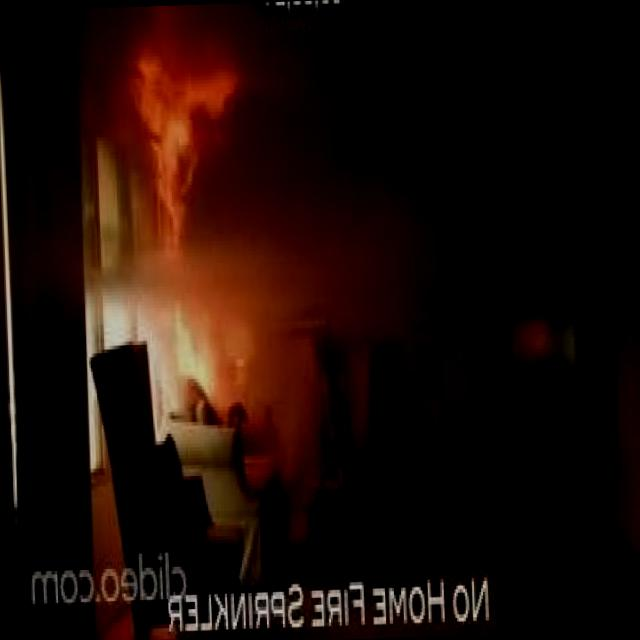fire: (120, 6, 270, 463)
